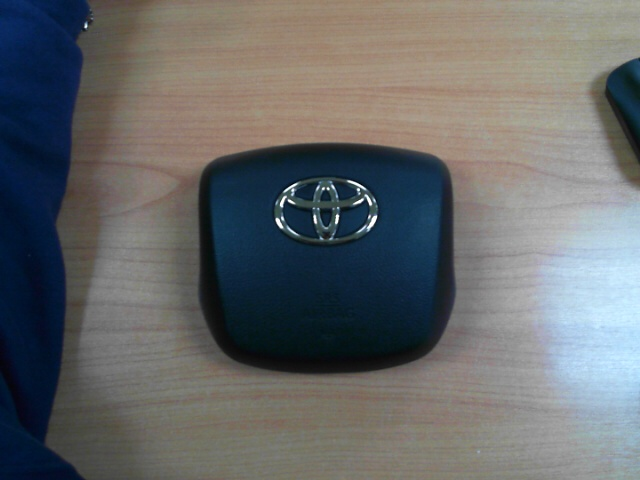Airbag: (198, 141, 453, 370)
